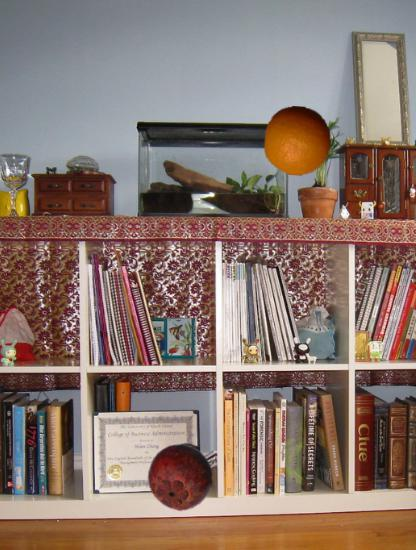Mangostan: (146, 442, 216, 512)
Orange: (263, 106, 333, 176)
